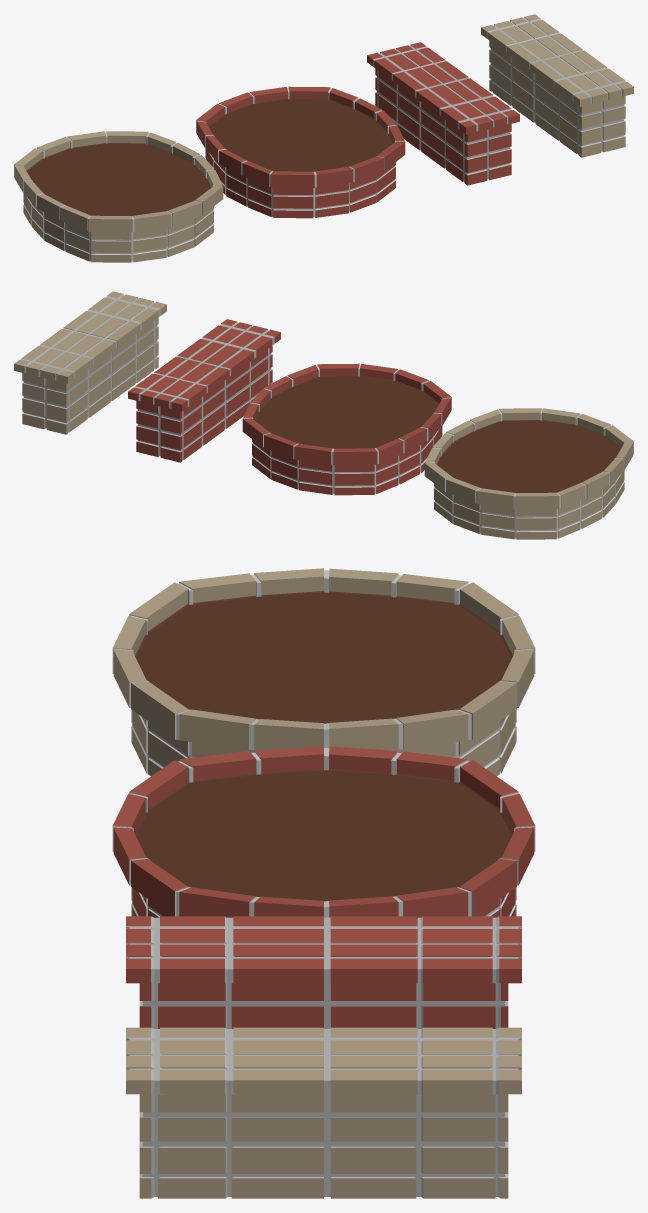
Rendered from Brick Planters.fbx.
3 views of the same model, one above another, from view 1: azimuth 30°, elevation 25°; view 2: azimuth 150°, elevation 25°; view 3: azimuth 270°, elevation 25° (orthographic). The views are drawn at different scales.
Parts seen in each view (by area): view 1: Beige Brick Planter, Tree Planter, Beige Brick Half Wall, Red Brick Half Wall; view 2: Beige Brick Planter, Tree Planter, Beige Brick Half Wall, Red Brick Half Wall; view 3: Beige Brick Planter, Beige Brick Half Wall, Tree Planter, Red Brick Half Wall.
Boxes of the visible parts, x1,y1,x2,y2 form: Beige Brick Planter: (14,131,223,262); Tree Planter: (196,86,405,218); Beige Brick Half Wall: (481,14,633,157); Red Brick Half Wall: (367,42,519,185); Beige Brick Planter: (424,408,633,539); Tree Planter: (242,363,451,495); Beige Brick Half Wall: (14,291,166,434); Red Brick Half Wall: (128,319,280,462); Beige Brick Planter: (112,568,535,776); Beige Brick Half Wall: (126,1027,521,1198); Tree Planter: (112,746,535,917); Red Brick Half Wall: (126,916,521,1028).
Bounding box in the file's own units: 698 × 75.11 × 233.
